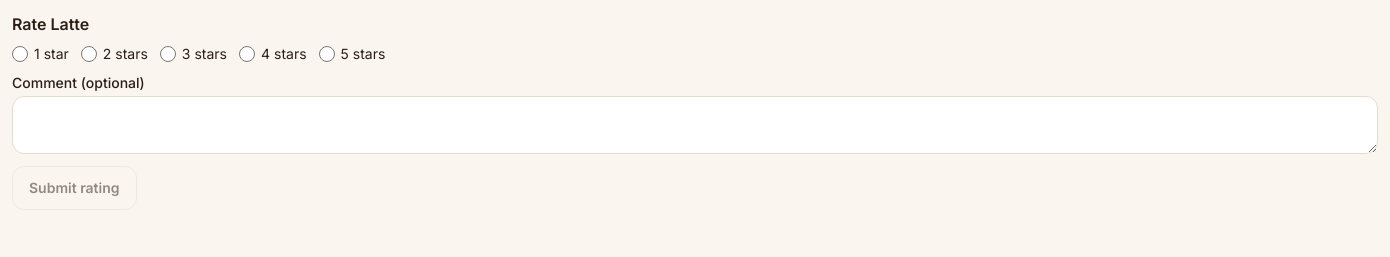
Test: RatingForm › explains a failed connection
Click the radio button labelled "5 stars" at (327, 54), box [319,46,335,62]
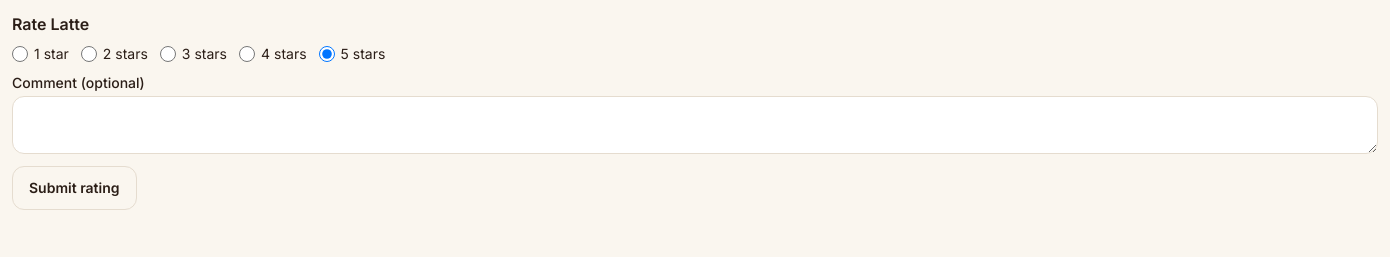
Click the button with aria-label "Submit rating for Latte" at (74, 188), box [12,166,137,210]
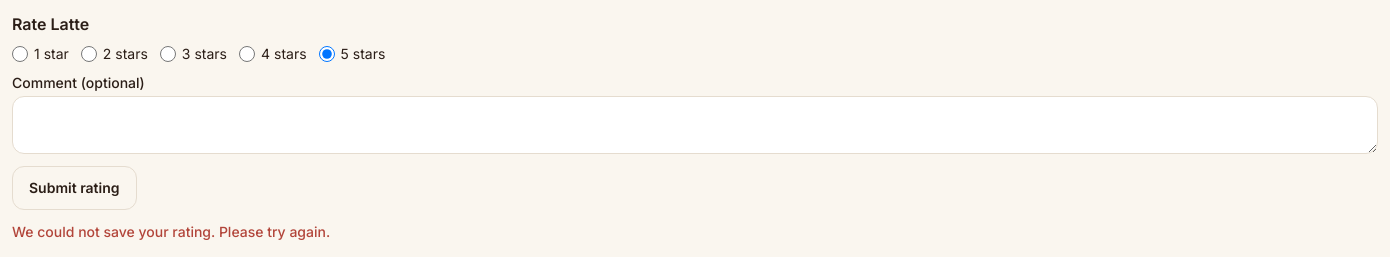
Expected: the message shows "try again", [12,223,330,240]
